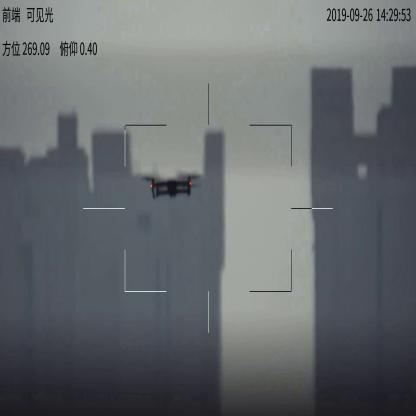uav: (140, 173, 201, 199)
